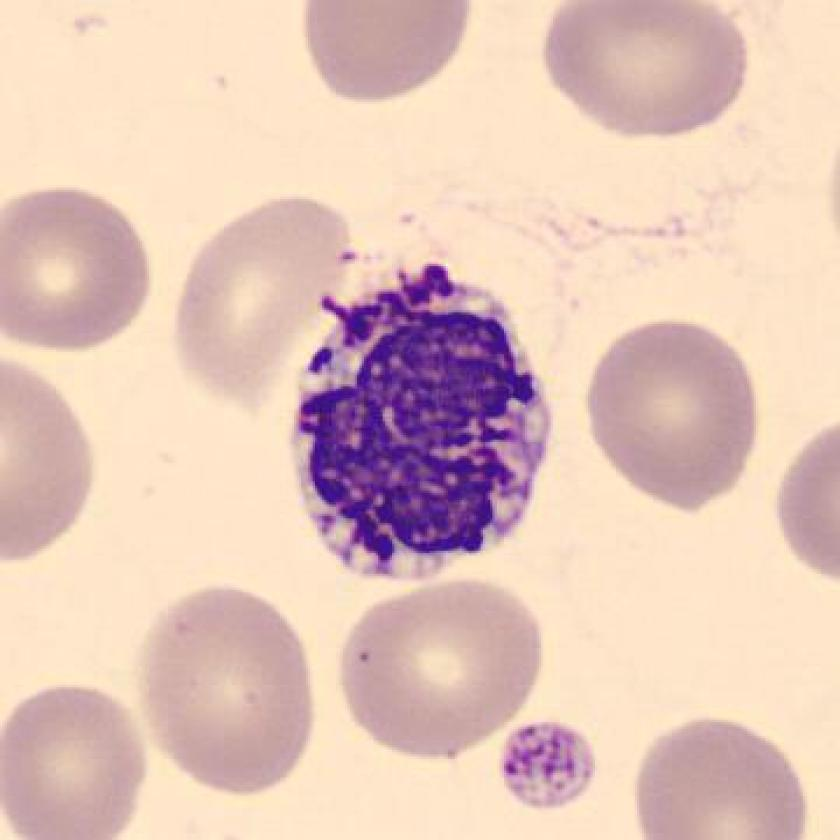basophil: (293, 270, 552, 580)
